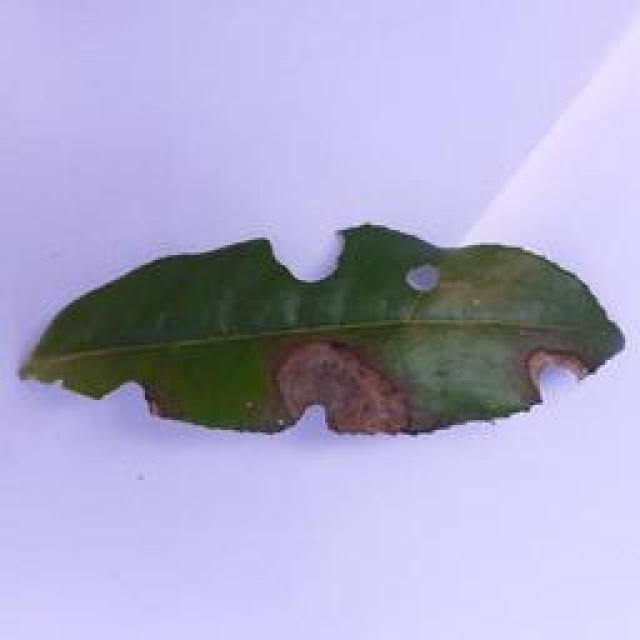Gray Blight: (14, 220, 628, 444)
